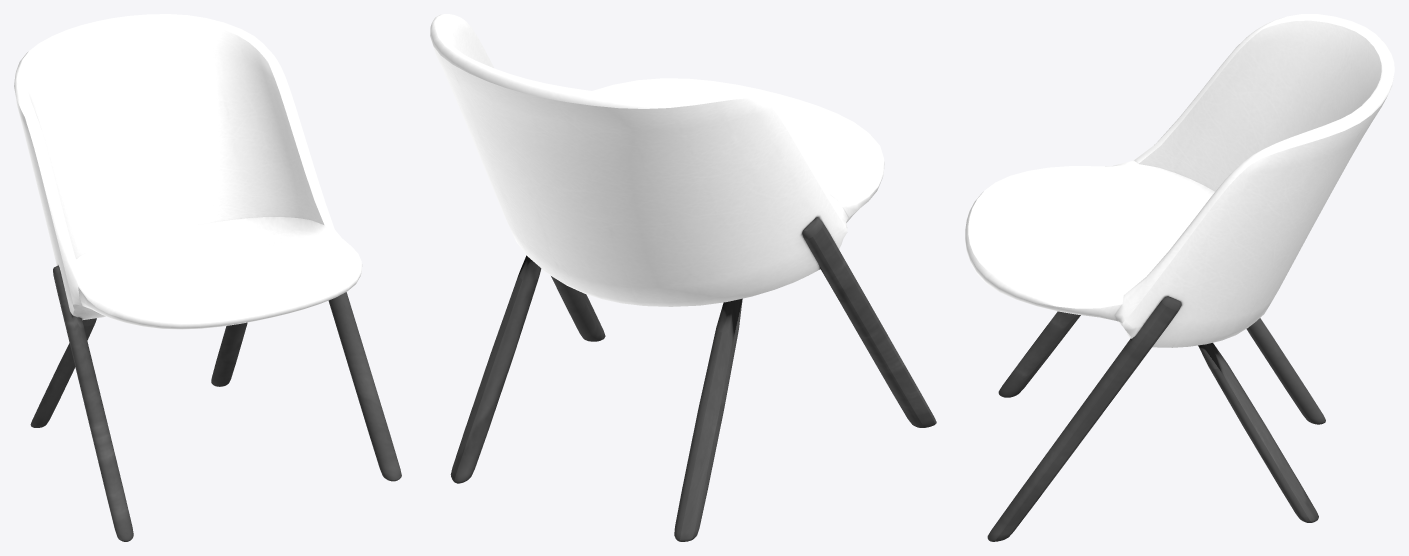
Rendered from Chair2.glb.
3 views of the same model, side by side, from view 1: azimuth 30°, elevation 25°; view 2: azimuth 150°, elevation 25°; view 3: azimuth 270°, elevation 25° (orthographic). The views are drawn at different scales.
Visible parts, largest first — view 1: Chair2; view 2: Chair2; view 3: Chair2.
Boxes of the visible parts, x1,y1,x2,y2 form: Chair2: [14, 14, 401, 541]; Chair2: [430, 14, 936, 541]; Chair2: [965, 14, 1394, 541].
Size of the model in its own units: 0.7206 by 0.8879 by 0.8514.
1 material, 1 textured.
